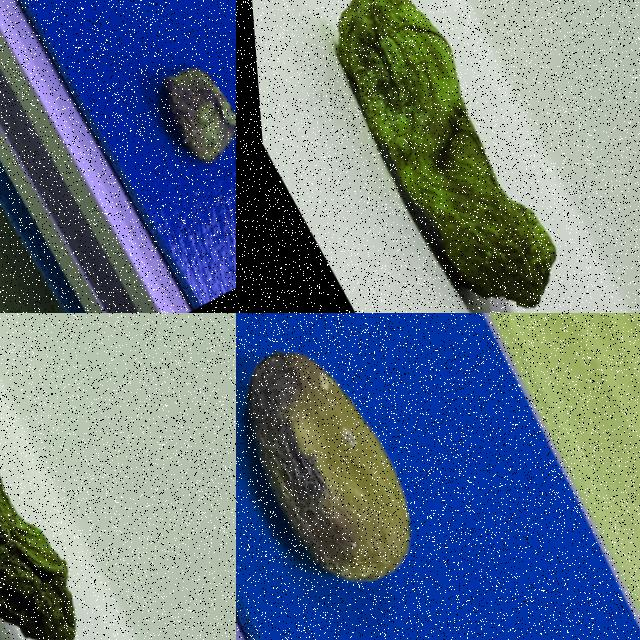Fine_cocoabeans: (236, 313, 504, 639)
Flat_cocoabeans: (259, 0, 639, 312), (0, 313, 155, 639), (71, 0, 235, 217)
